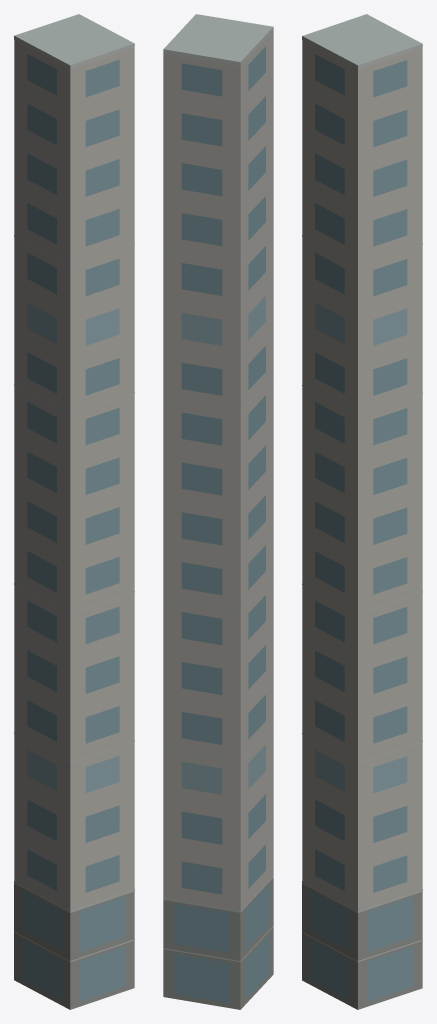
Rendered from survey-upis-32912340.glb.
3 views of the same model, side by side, from view 1: azimuth 90°, elevation 25°; view 2: azimuth 210°, elevation 25°; view 3: azimuth 270°, elevation 25° (orthographic).
Visible parts, largest first — view 1: survey-upis-32912340.tmp; view 2: survey-upis-32912340.tmp; view 3: survey-upis-32912340.tmp.
Boxes of the visible parts, bbox=[...] form: survey-upis-32912340.tmp: bbox=[14, 14, 134, 1009]; survey-upis-32912340.tmp: bbox=[163, 14, 273, 1009]; survey-upis-32912340.tmp: bbox=[302, 14, 422, 1009].
Bounding box in the file's own units: 6.78 × 57.95 × 6.72.
